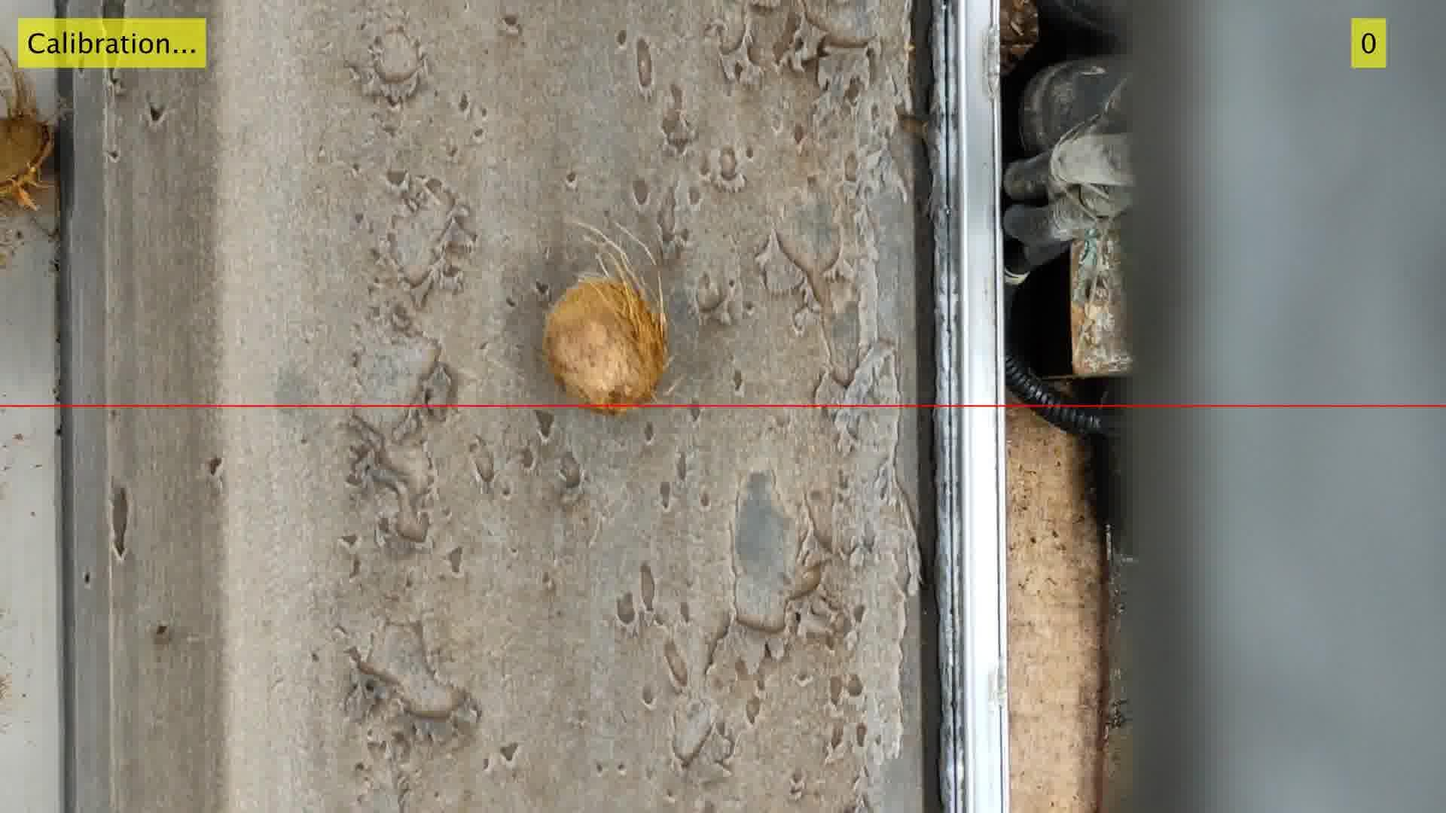Coconut: (541, 273, 670, 418)
